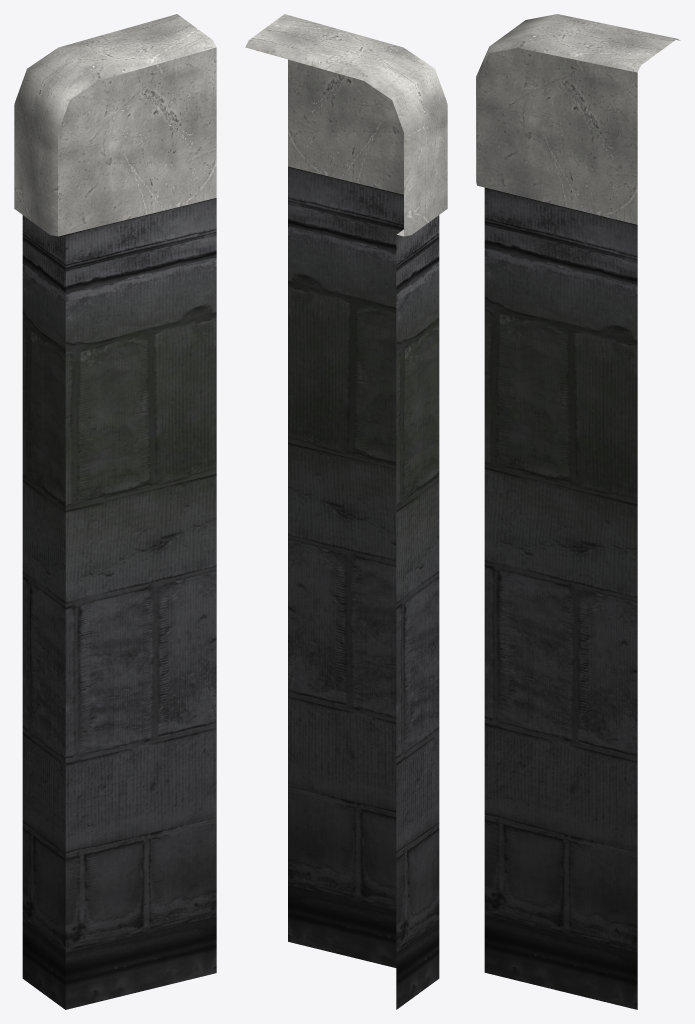
Rendered from SM_Banchina_Testata_Fine_LOD1.fbx.
3 renders of one model, left to right at view 1: azimuth 30°, elevation 25°; view 2: azimuth 150°, elevation 25°; view 3: azimuth 330°, elevation 25°, orthographic.
Visible parts, largest first — view 1: SM_Banchina_Testata_Fine_LOD1; view 2: SM_Banchina_Testata_Fine_LOD1; view 3: SM_Banchina_Testata_Fine_LOD1.
Boxes of the visible parts, x1,y1,x2,y2 form: SM_Banchina_Testata_Fine_LOD1: (14,14,216,1009); SM_Banchina_Testata_Fine_LOD1: (245,14,447,1009); SM_Banchina_Testata_Fine_LOD1: (476,14,680,1009).
Size of the model in its own units: 55 by 25 by 300.
Materials: 2 (2 with a texture image).
